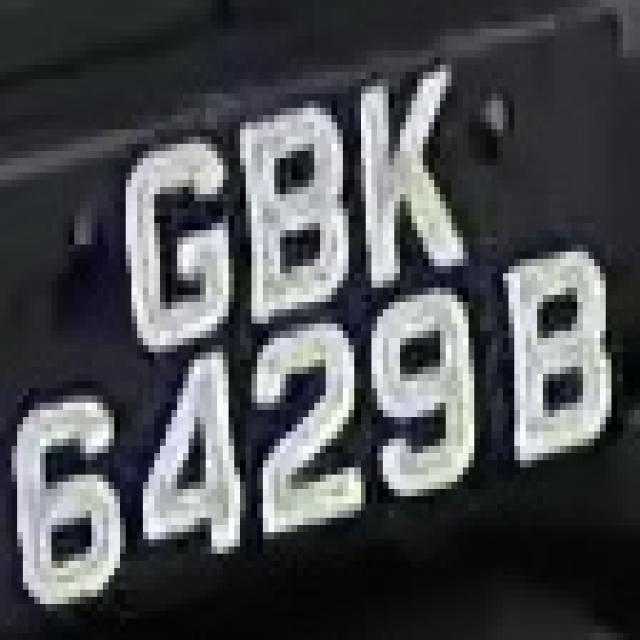2: (240, 324, 377, 532)
4: (114, 338, 257, 597)
6: (6, 381, 131, 626)
9: (360, 288, 497, 510)
B: (469, 245, 617, 496), (228, 93, 366, 331)
G: (92, 115, 235, 367)
K: (348, 58, 463, 288)
